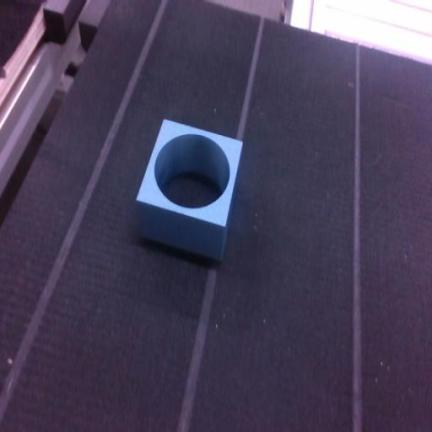square: (137, 120, 242, 259)
